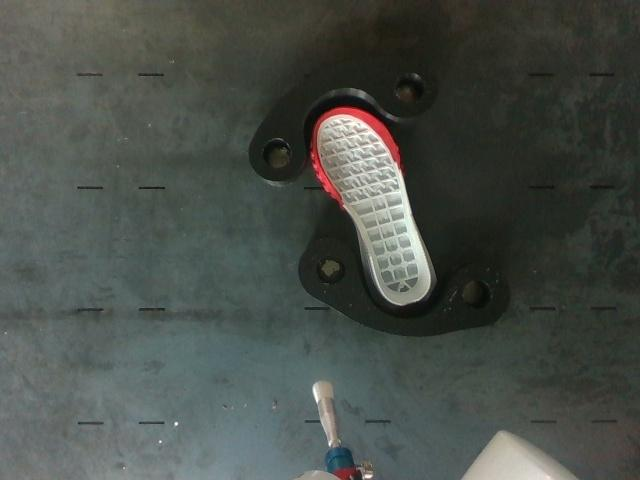shoes: (314, 109, 430, 304)
